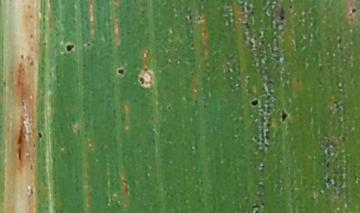tarspot: (280, 109, 288, 122), (64, 44, 75, 52), (250, 99, 257, 106), (117, 69, 124, 75), (37, 132, 42, 139), (139, 77, 144, 84), (351, 8, 356, 14), (288, 4, 292, 8)
